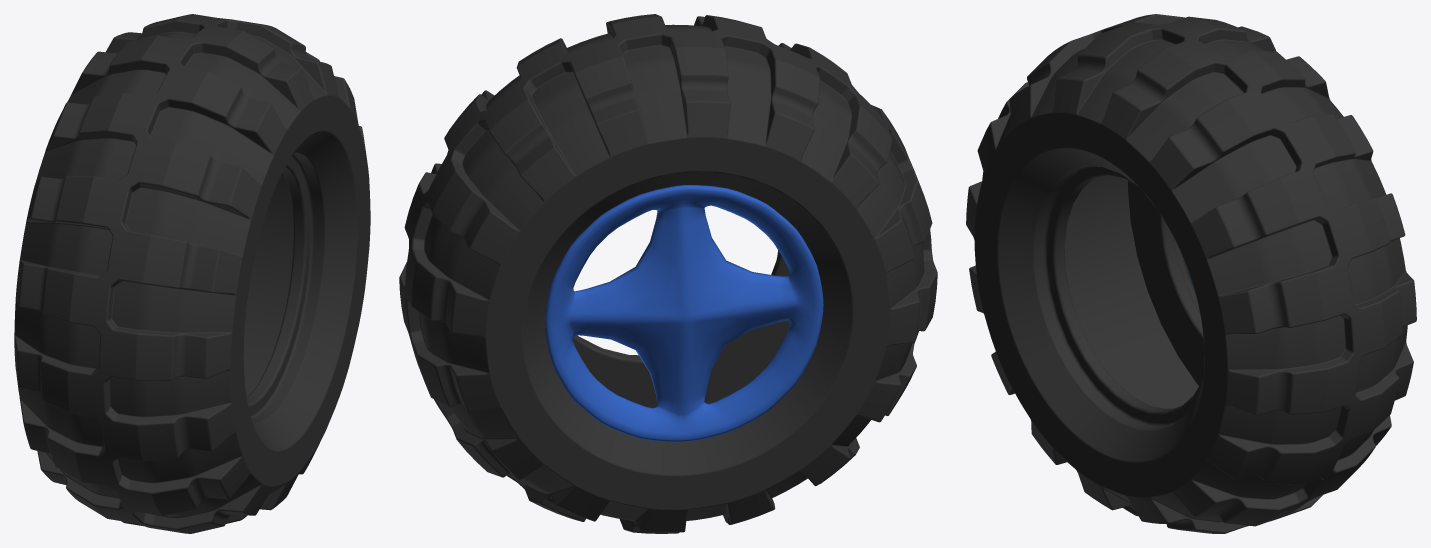
The model's file is Offroad-llantasupizq.glb.
3 renders of one model, left to right at view 1: azimuth 30°, elevation 25°; view 2: azimuth 150°, elevation 25°; view 3: azimuth 270°, elevation 25°, orthographic. The views are drawn at different scales.
Visible parts, largest first — view 1: Circle004_Material #508_0; view 2: Circle004_Material #508_0; view 3: Circle004_Material #508_0.
Part boxes in pixels (box(x1,y1,x2,y2)): Circle004_Material #508_0: box(14, 14, 370, 533); Circle004_Material #508_0: box(399, 14, 937, 533); Circle004_Material #508_0: box(966, 14, 1416, 533).
Bounding box in the file's own units: 53.24 × 56.87 × 49.32.
